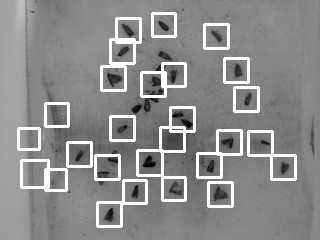insect: (105, 71, 123, 88), (146, 87, 164, 104), (212, 184, 229, 202), (120, 22, 136, 38), (95, 170, 111, 185), (167, 179, 182, 195), (106, 148, 121, 163), (141, 154, 156, 169), (150, 74, 167, 87), (209, 28, 223, 43), (157, 49, 173, 61), (178, 117, 194, 129), (116, 44, 130, 57), (154, 60, 168, 73), (103, 206, 114, 222), (130, 183, 140, 200), (157, 19, 170, 32), (221, 136, 234, 149), (233, 62, 243, 78), (279, 159, 289, 175), (142, 95, 151, 112), (243, 90, 252, 107), (205, 158, 215, 173), (74, 149, 85, 162), (170, 110, 185, 119), (116, 123, 128, 134), (131, 103, 142, 114), (169, 69, 176, 83), (259, 139, 272, 146)
